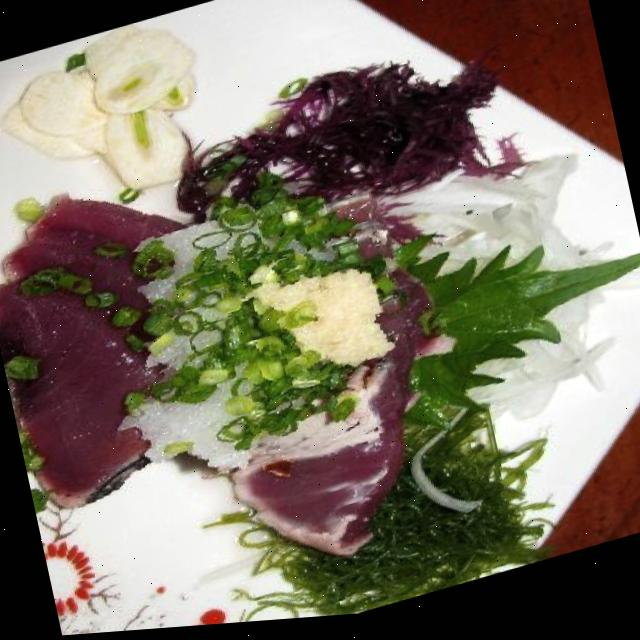熟制海鲜: (0, 67, 525, 640)
